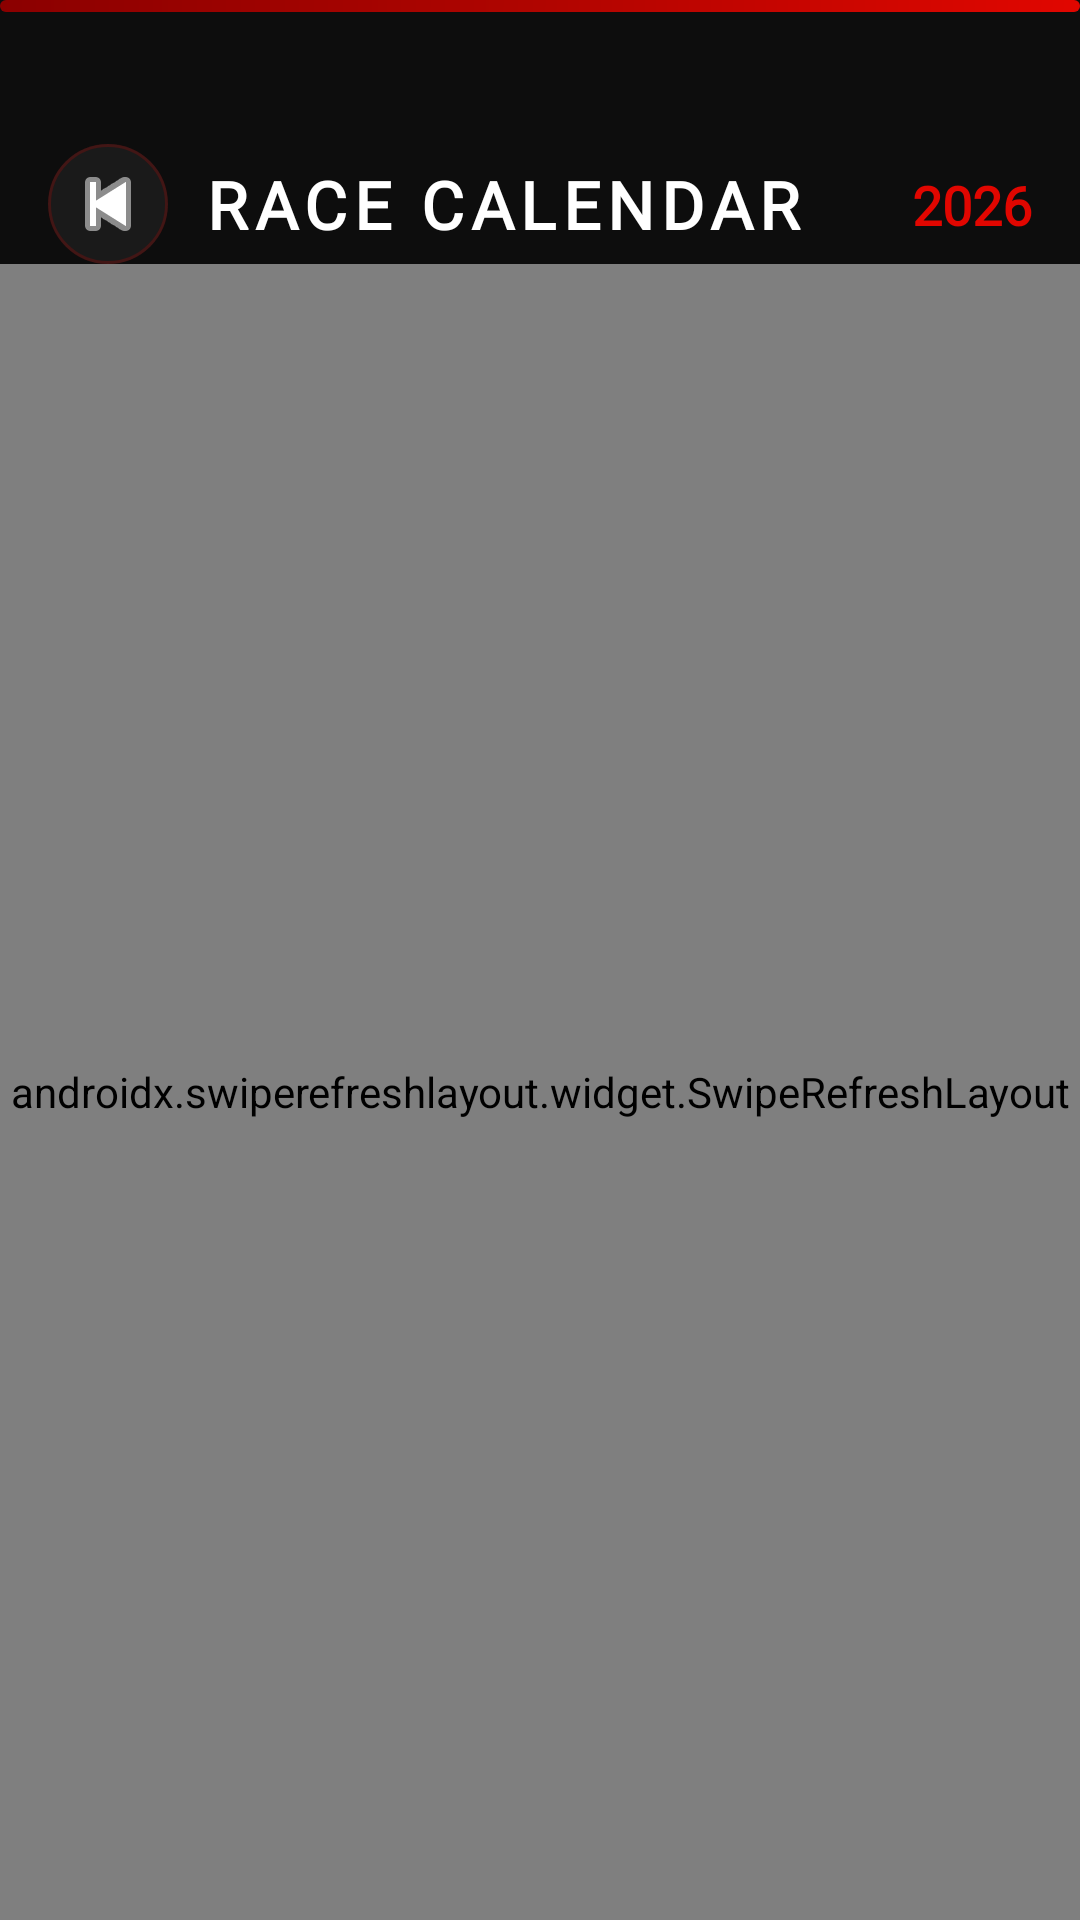

Screen size 1080w x 1920h. Icon name, then its box in pixels as bbox=[x1, y1, x2, y2]:
Back: bbox=[85, 177, 131, 231]
